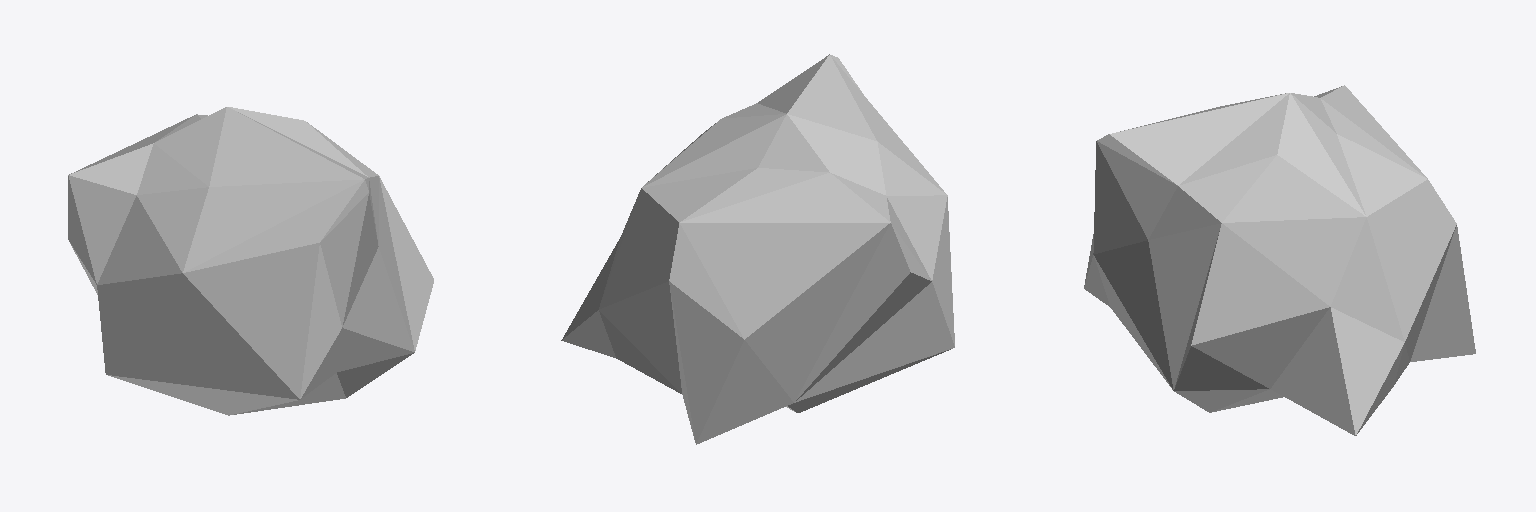
File: stone_4.obj
3 renders of one model, left to right at view 1: azimuth 30°, elevation 25°; view 2: azimuth 150°, elevation 25°; view 3: azimuth 270°, elevation 25°, orthographic.
Visible parts, largest first — view 1: stone_4; view 2: stone_4; view 3: stone_4.
Part boxes in pixels (bbox=[...]): stone_4: bbox=[68, 107, 433, 415]; stone_4: bbox=[561, 54, 954, 444]; stone_4: bbox=[1084, 85, 1475, 435].
Size of the model in its own units: 1.4 by 1.2 by 1.41.